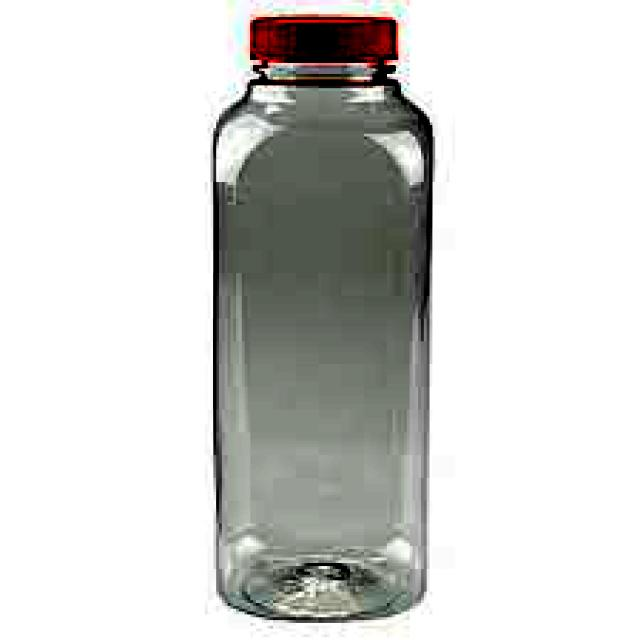Glass: (207, 10, 432, 624)
